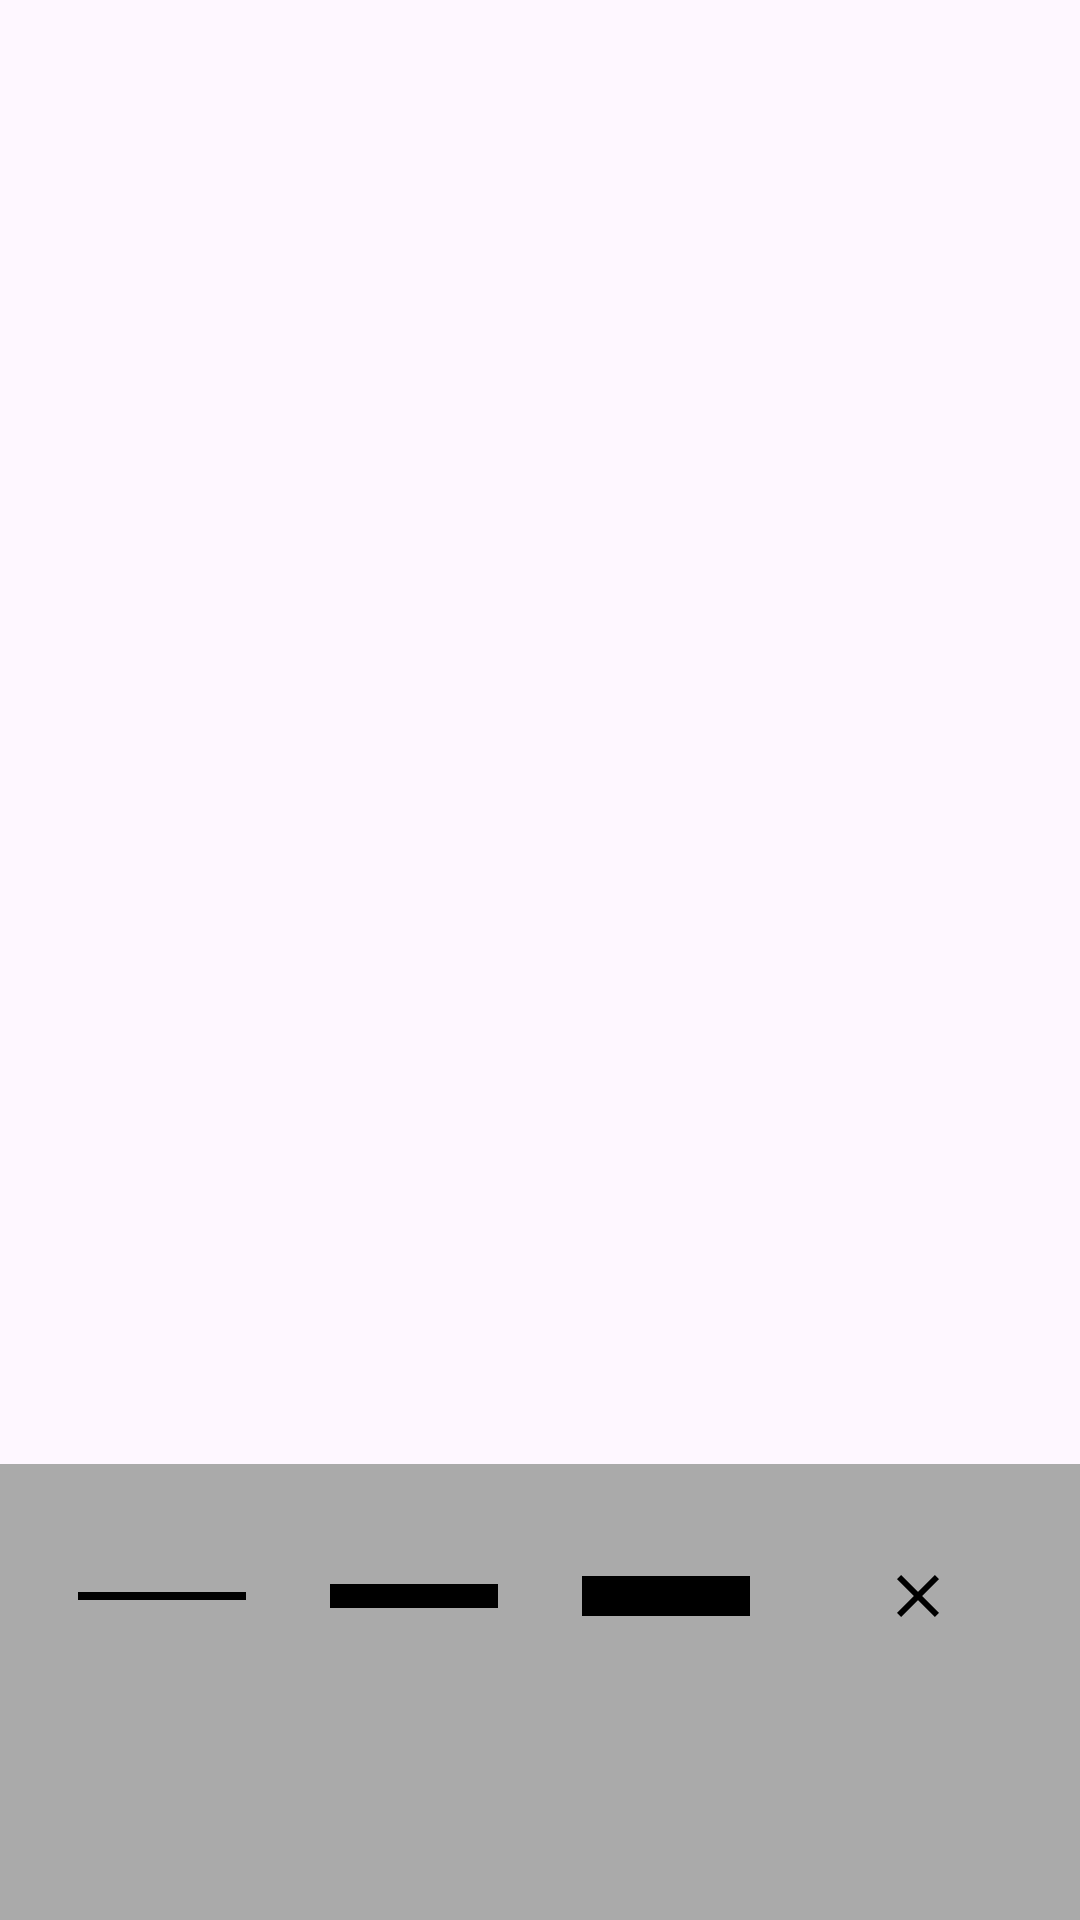

Icon click points for this 1080×1920 phone screenshot, format [x,y]:
Clear Button: [918,1596]
